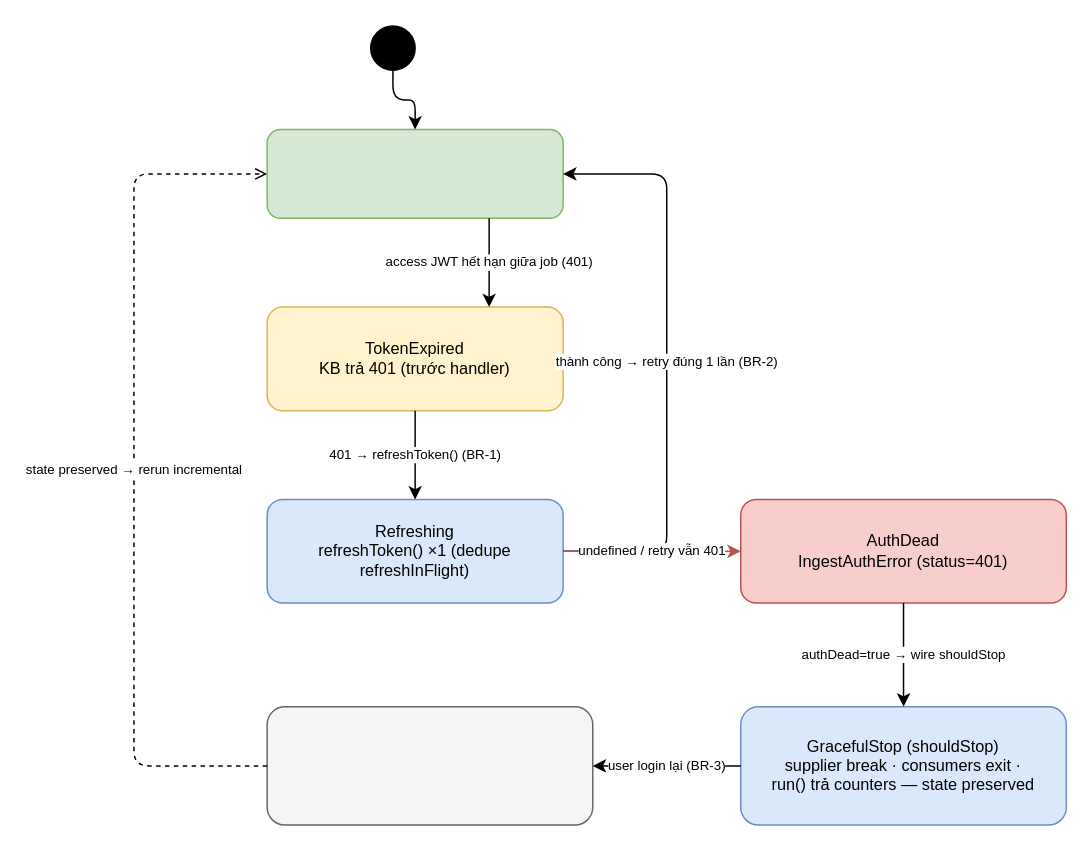
Image size: 1092x851. Some labels were removed from this diagram. Here are the shapes that lost their labels. From the top down, the centre of each, then its label:
At point 414,173: "Authed (token cached còn hạn)".
At point 429,765: "Rerun user login lại (không auto-login — BR-3) → incremental".
